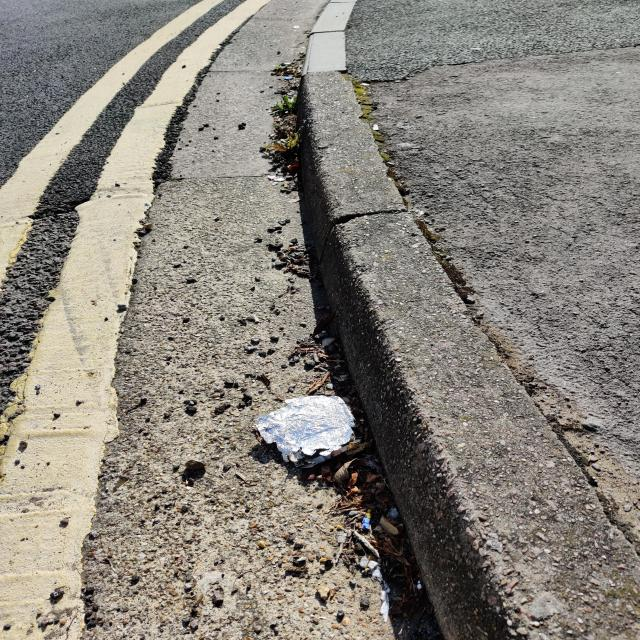litter: (251, 389, 355, 464)
